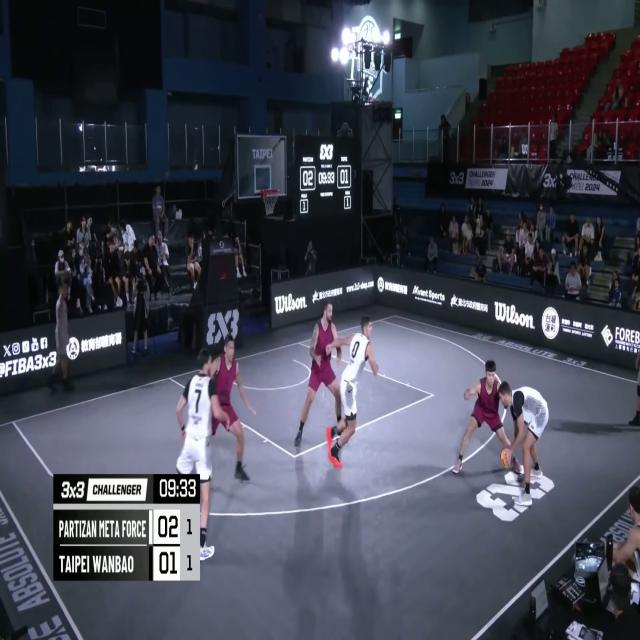ball: (500, 448, 514, 470)
hoop: (260, 186, 278, 222)
player: (175, 352, 233, 566), (451, 359, 526, 478), (498, 377, 558, 506), (206, 338, 256, 488), (295, 301, 346, 447), (328, 316, 377, 465)
